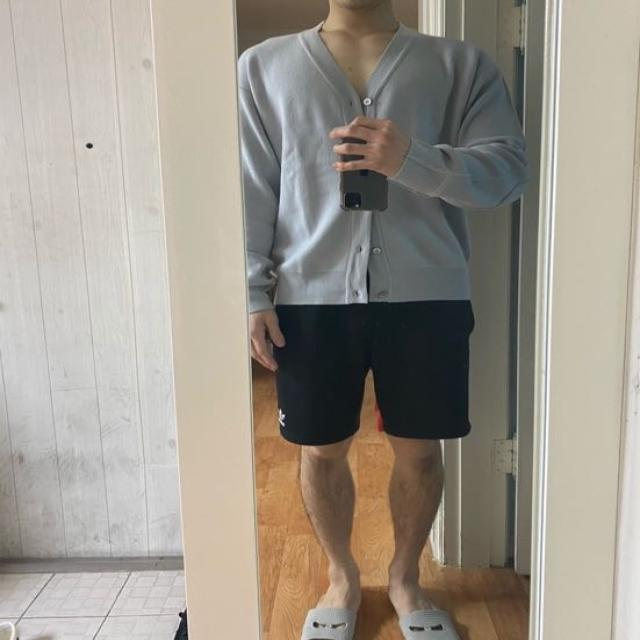cardigan: (242, 19, 526, 318)
shortpants: (274, 294, 476, 450)
